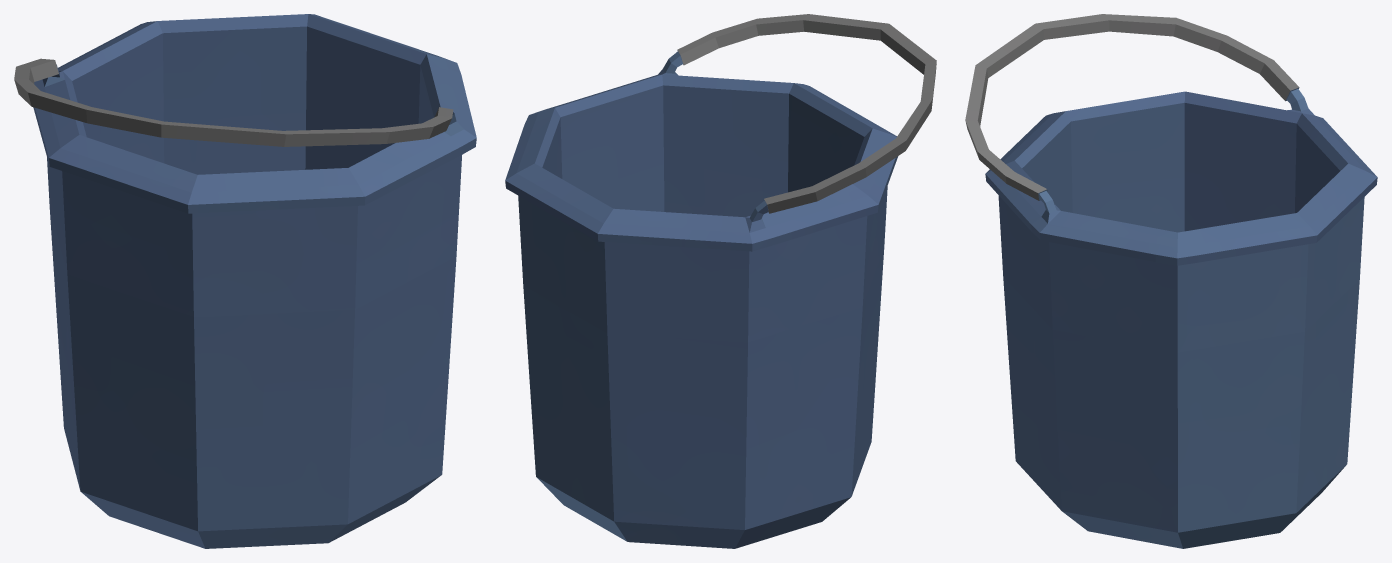
File: bucket_1.glb
3 views of the same model, side by side, from view 1: azimuth 30°, elevation 25°; view 2: azimuth 150°, elevation 25°; view 3: azimuth 270°, elevation 25° (orthographic). The views are drawn at different scales.
Visible parts, largest first — view 1: bucket_1; view 2: bucket_1; view 3: bucket_1.
Part boxes in pixels (x1,y1,x2,y2): bucket_1: [14, 14, 476, 548]; bucket_1: [505, 14, 936, 548]; bucket_1: [965, 14, 1377, 548].
Size of the model in its own units: 0.3989 by 0.4151 by 0.3934.
1 material, 1 textured.
